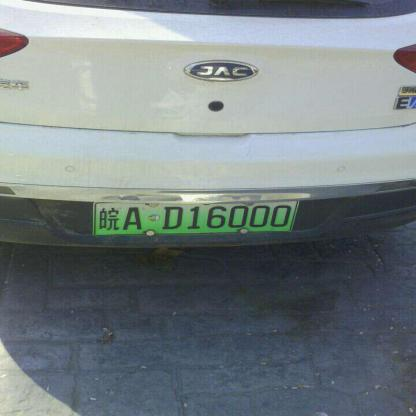lp: (94, 199, 298, 236)
